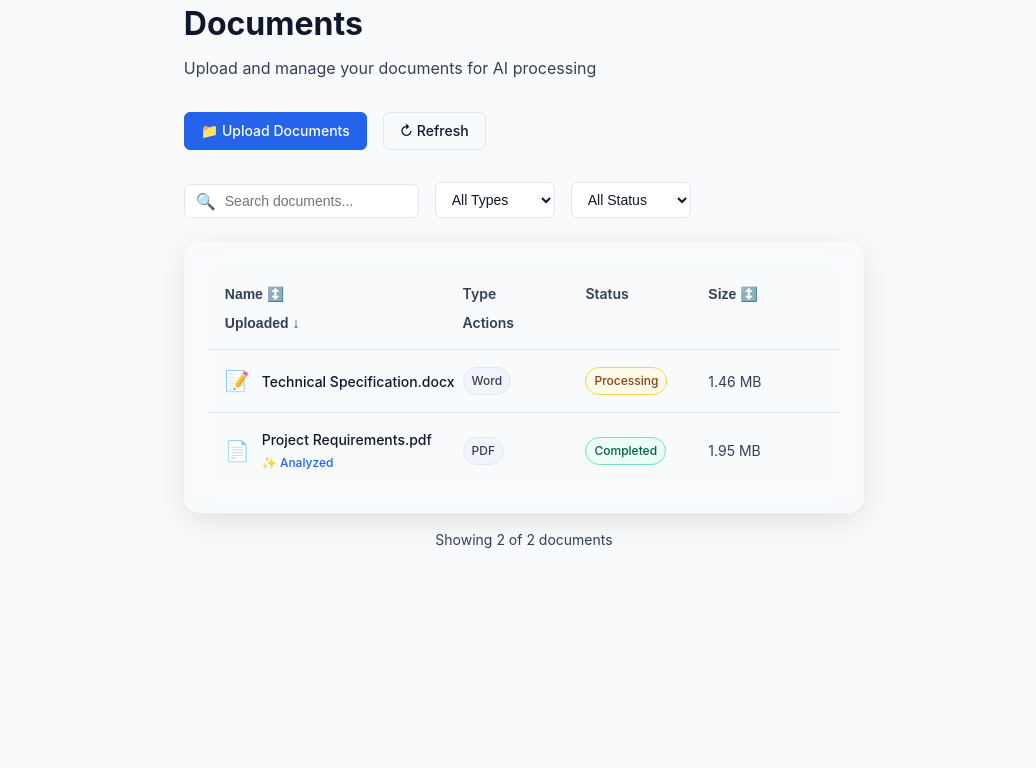
Documents Integration › handles document viewer close
The width and height of the screenshot is (1036, 768).
# Open document viewer
Click the text "Project Requirements.pdf": (493, 450) [225,431,761,470]
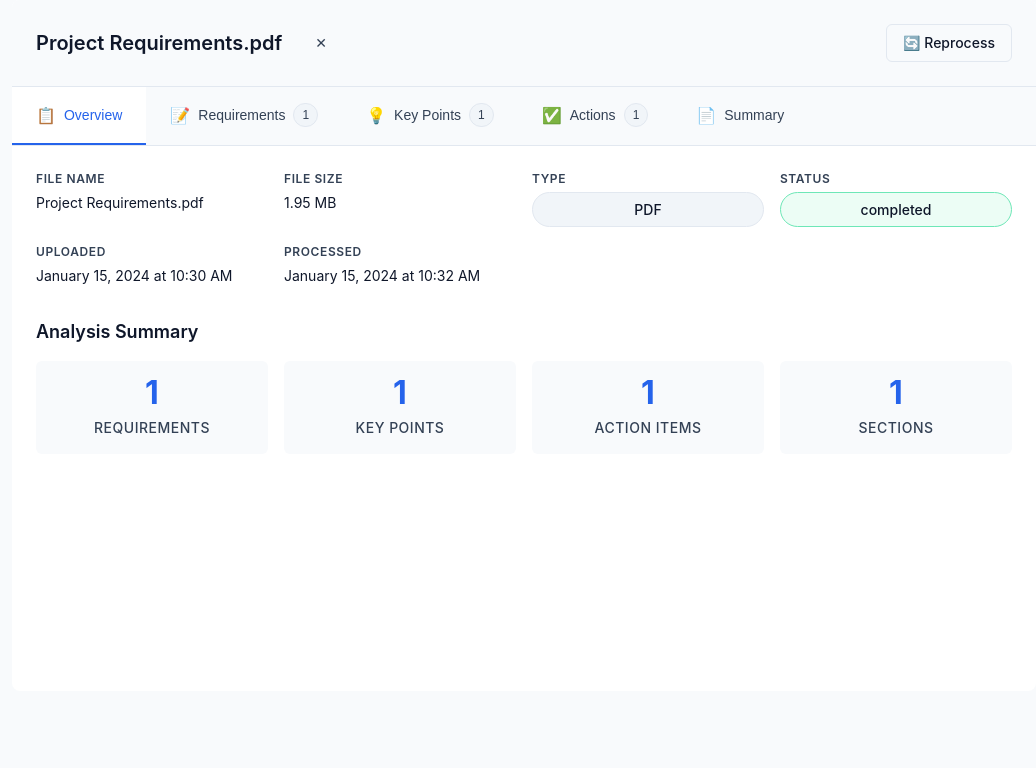
Now the text "Overview" is shown, box [64,107,122,123]
# Close document viewer
Click the button "✕": (321, 43) [298,24,344,62]
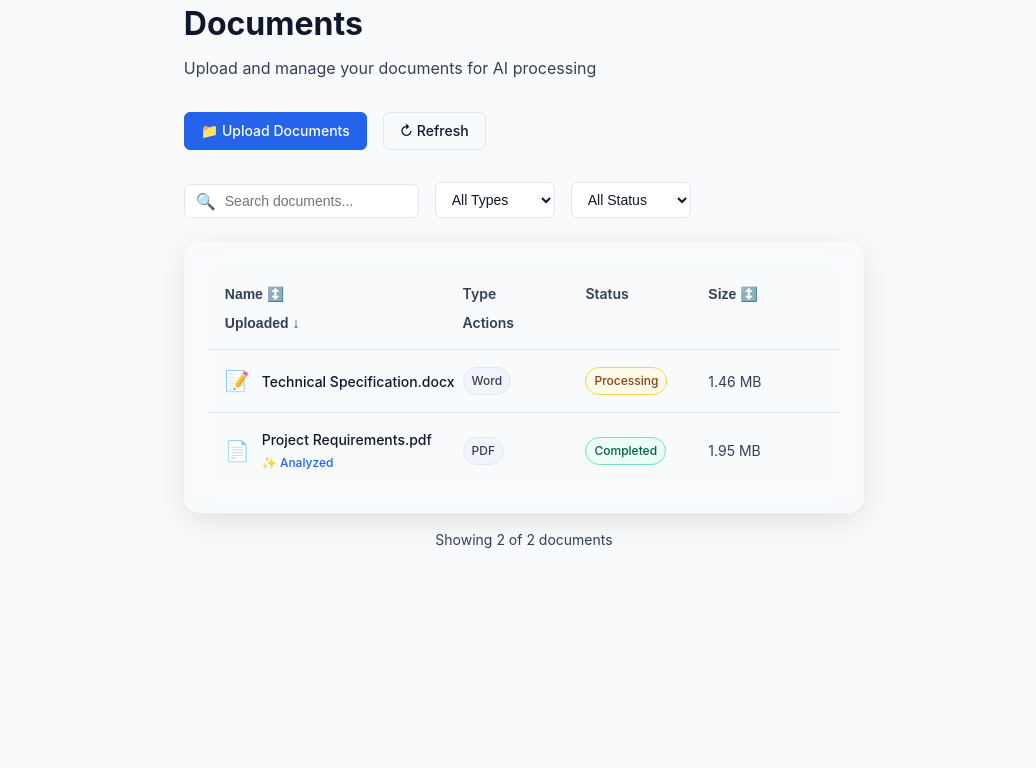
Expected: the text "Project Requirements.pdf" is shown, [262,429,432,450]
Now the button "Overview" is gone
